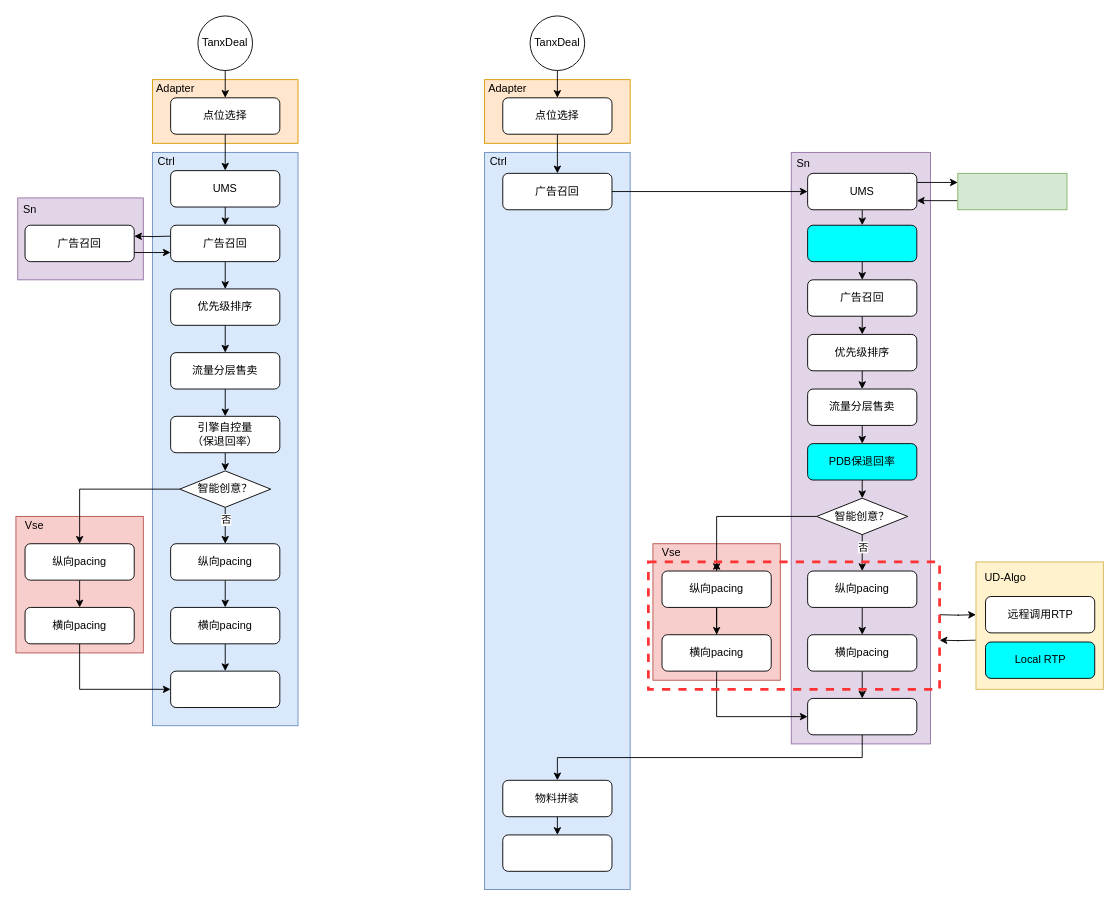
This 1119x905 diagram has some shape labels left out. Each missing label, with the centre of its shape:
UD-UserCenter: [1012,191]
召回结果: [862,716]
点位精选: [862,243]
物料拼装 落地页、点击串组装: [225,689]
落地页、点击串组装: [557,852]
